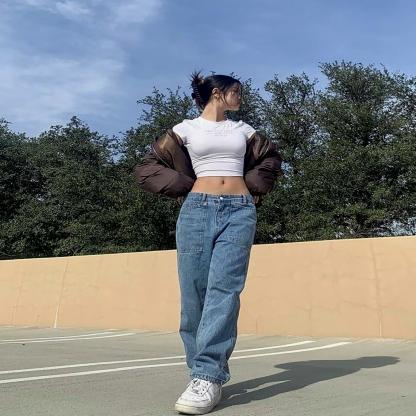dress: (172, 188, 261, 380), (128, 133, 199, 200), (246, 134, 287, 198)
jacket: (166, 114, 262, 176)
